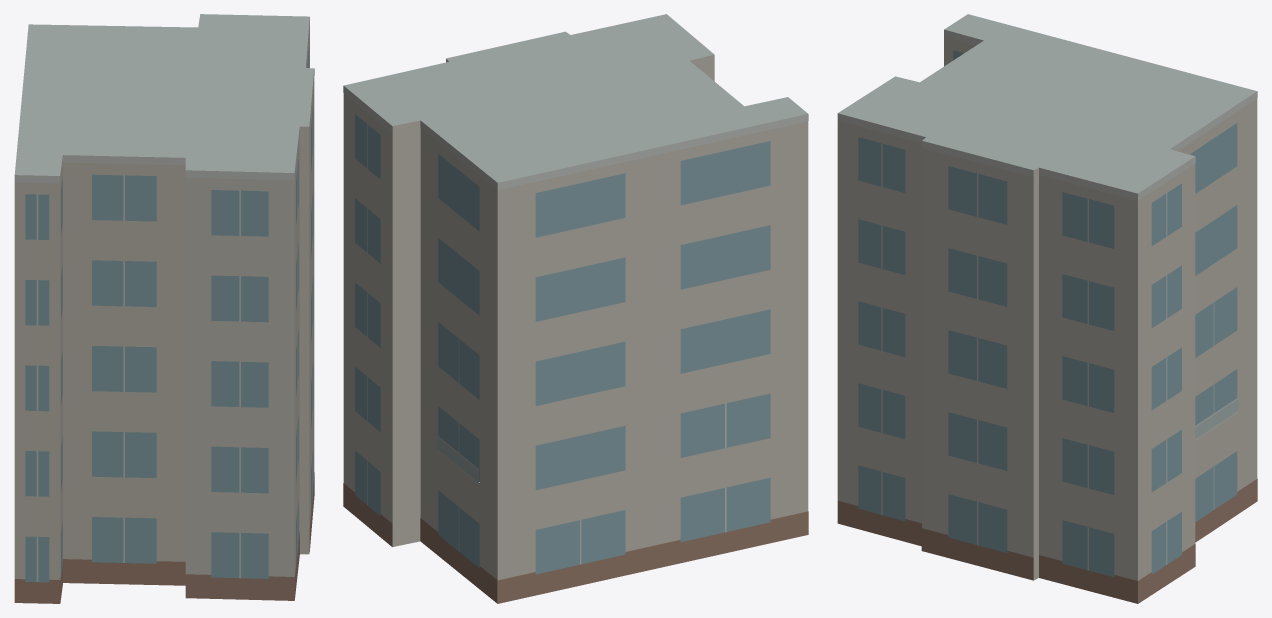
File: survey-upis-32702215.glb
3 views of the same model, side by side, from view 1: azimuth 30°, elevation 25°; view 2: azimuth 150°, elevation 25°; view 3: azimuth 270°, elevation 25° (orthographic). The views are drawn at different scales.
Parts seen in each view (by area): view 1: survey-upis-32702215.tmp; view 2: survey-upis-32702215.tmp; view 3: survey-upis-32702215.tmp.
Boxes of the visible parts, x1=… form: survey-upis-32702215.tmp: x1=14, y1=14, x2=314, y2=603; survey-upis-32702215.tmp: x1=343, y1=14, x2=808, y2=603; survey-upis-32702215.tmp: x1=837, y1=14, x2=1257, y2=603.
Size of the model in its own units: 13.25 by 14.1 by 13.08.
